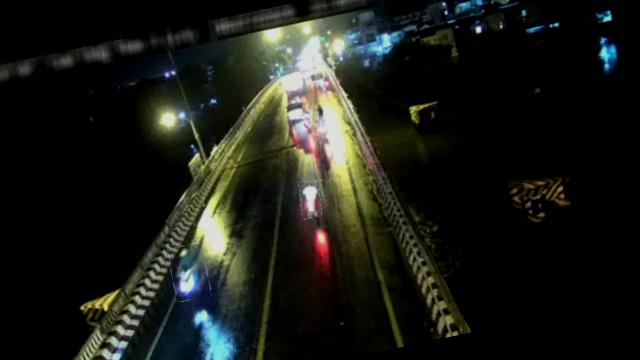Bike: (167, 241, 213, 301), (297, 179, 325, 220), (312, 104, 327, 136)
